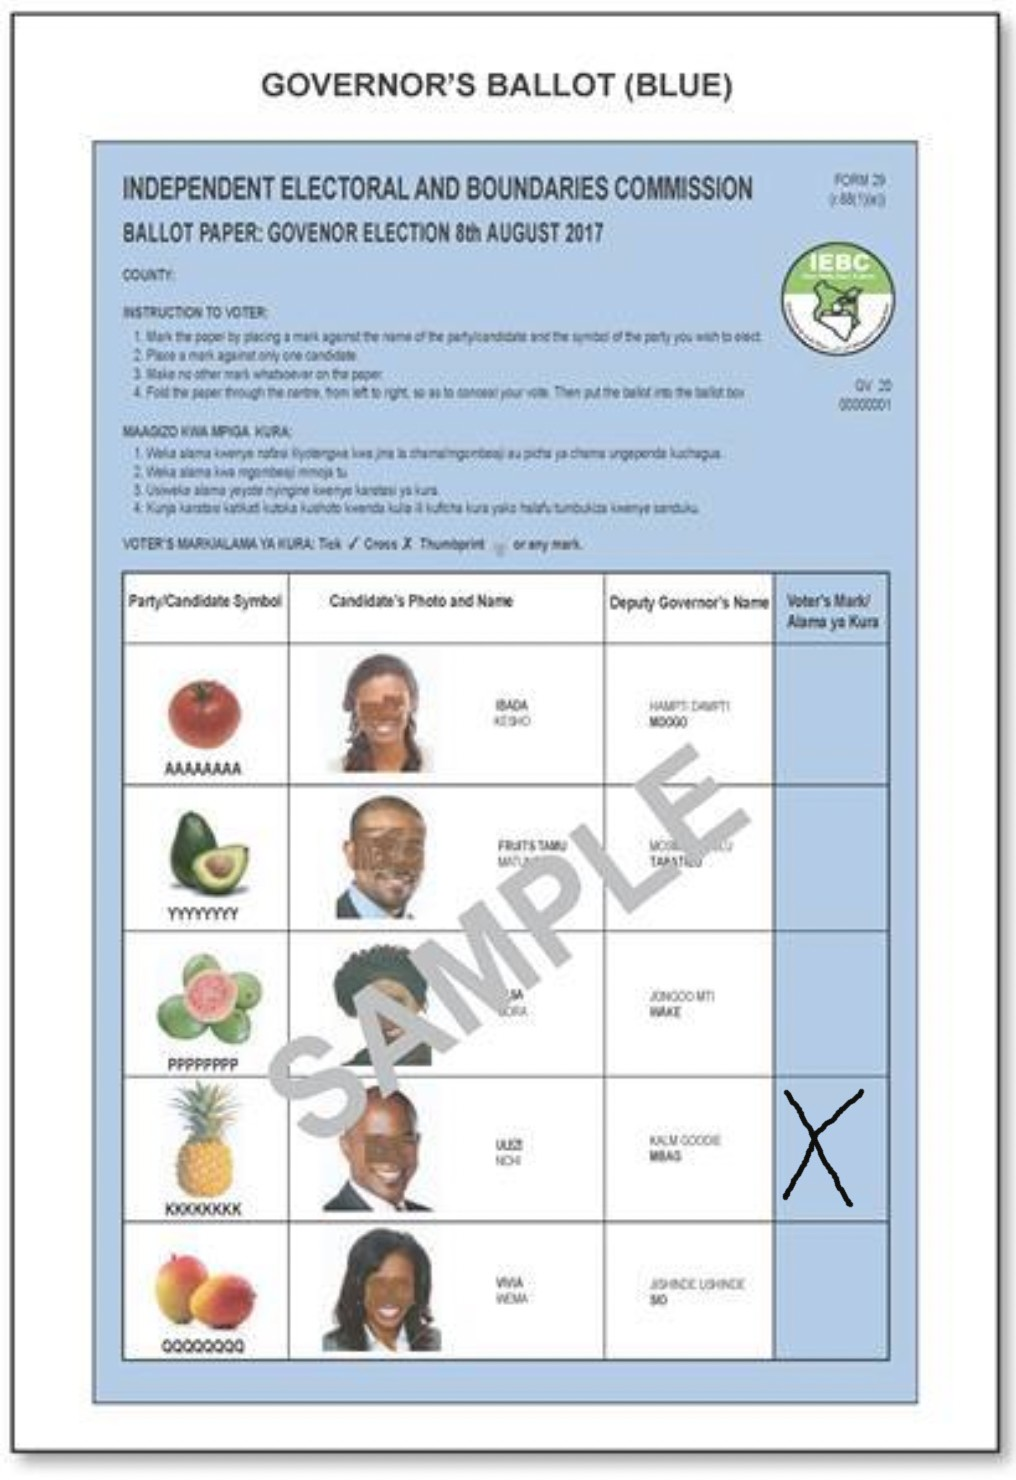mark: (777, 1085, 889, 1223)
